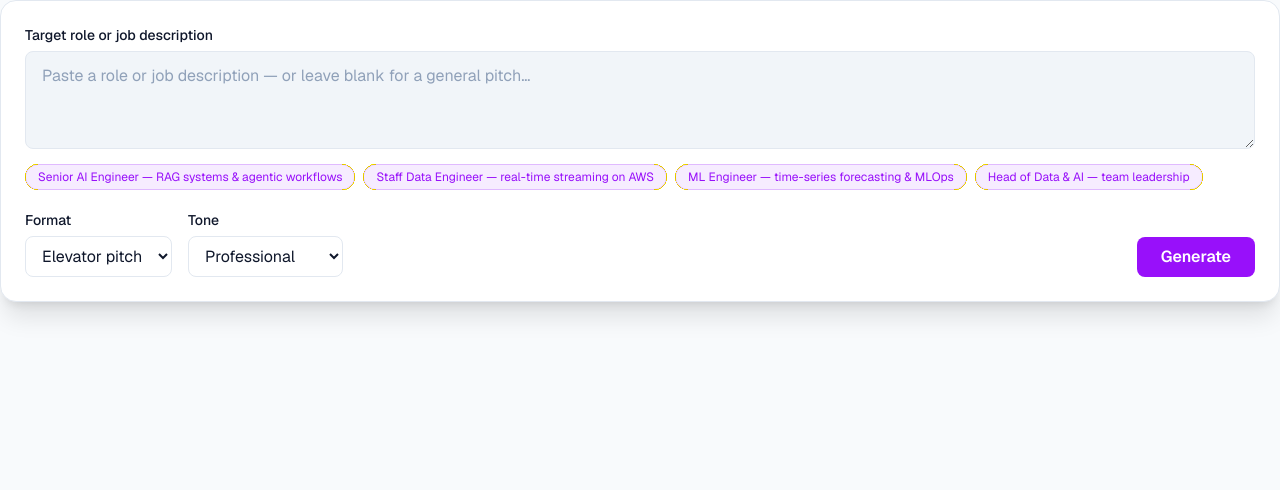
Test: ContentGenerator (streaming) › sends the selected format and tone in the request body
Select "Cover letter" in the dropdown labelled "Format" at point(98, 256), box [25, 236, 172, 277]
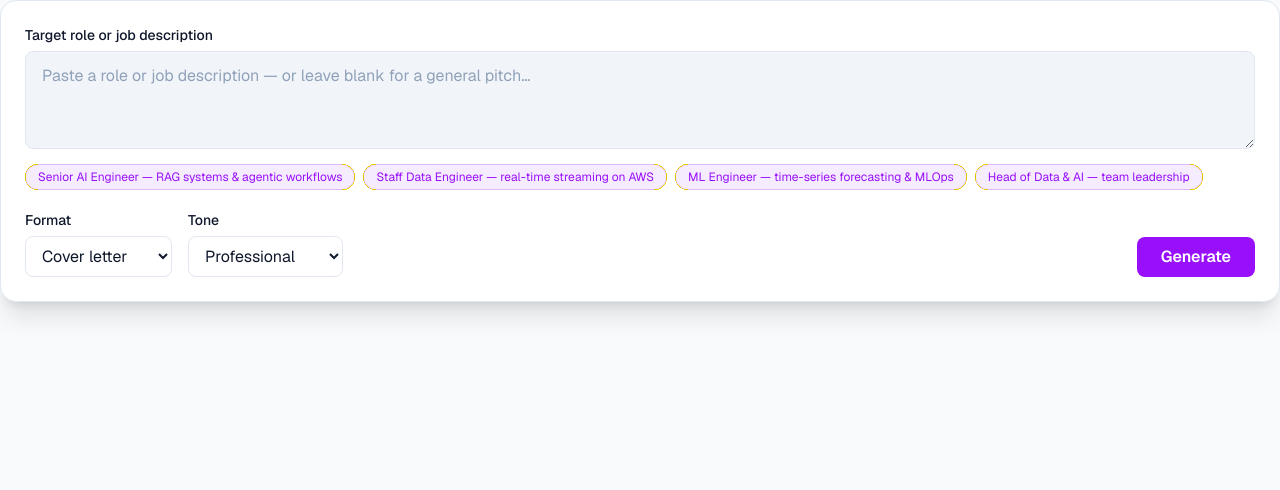
Select "Punchy" in the dropdown labelled "Tone" at point(266, 256), box [188, 236, 343, 277]
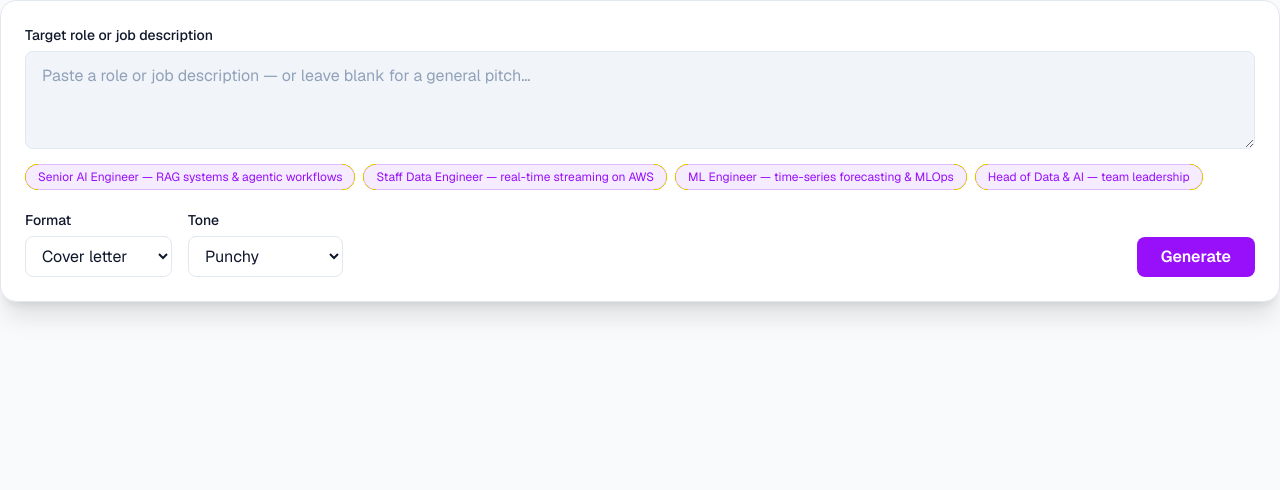
Replace the text in the text box labelled "Target role or job description" with "Staff role" at point(640, 100), box [25, 51, 1255, 149]
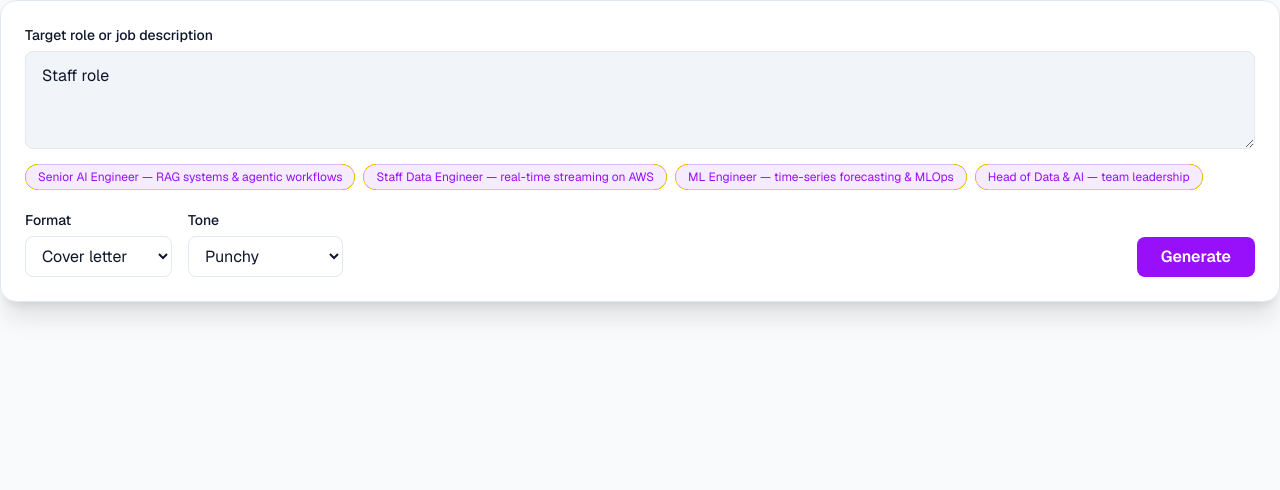
Click the button "Generate" at point(1196, 257), box [1137, 237, 1255, 277]
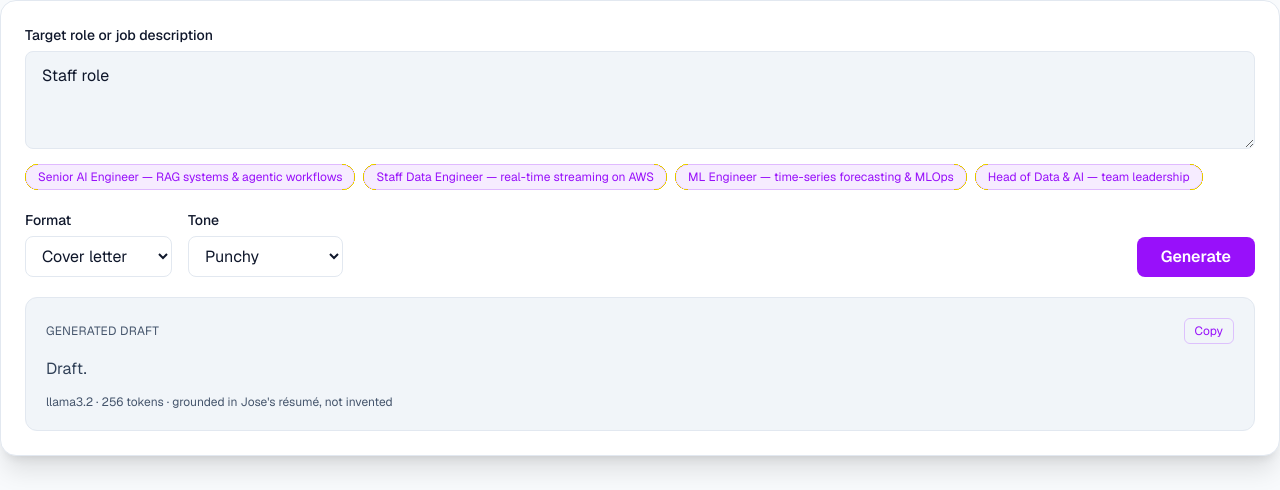
Result: the text "Draft." is shown at [46, 358, 87, 379]
